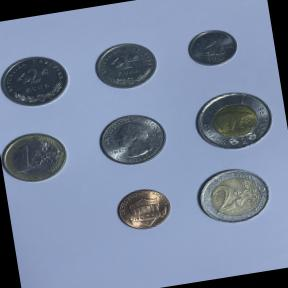coin: (186, 84, 282, 157), (190, 160, 276, 230), (90, 106, 174, 174), (0, 47, 76, 113), (0, 125, 73, 187), (110, 182, 178, 235), (182, 23, 245, 72)
